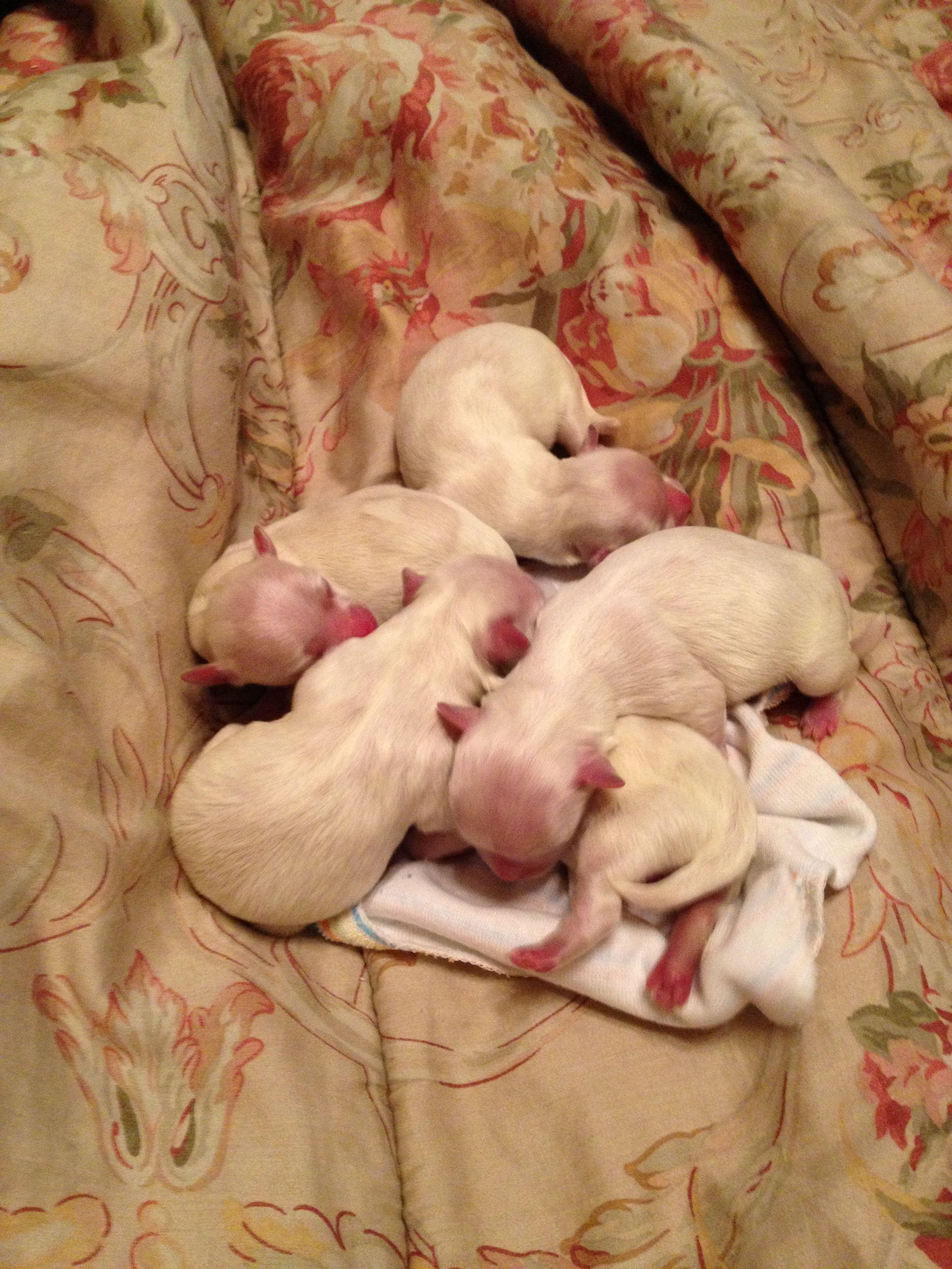puppy-dog: (431, 525, 890, 889), (166, 553, 547, 935), (394, 322, 696, 573), (511, 714, 761, 1011), (178, 483, 520, 689)
